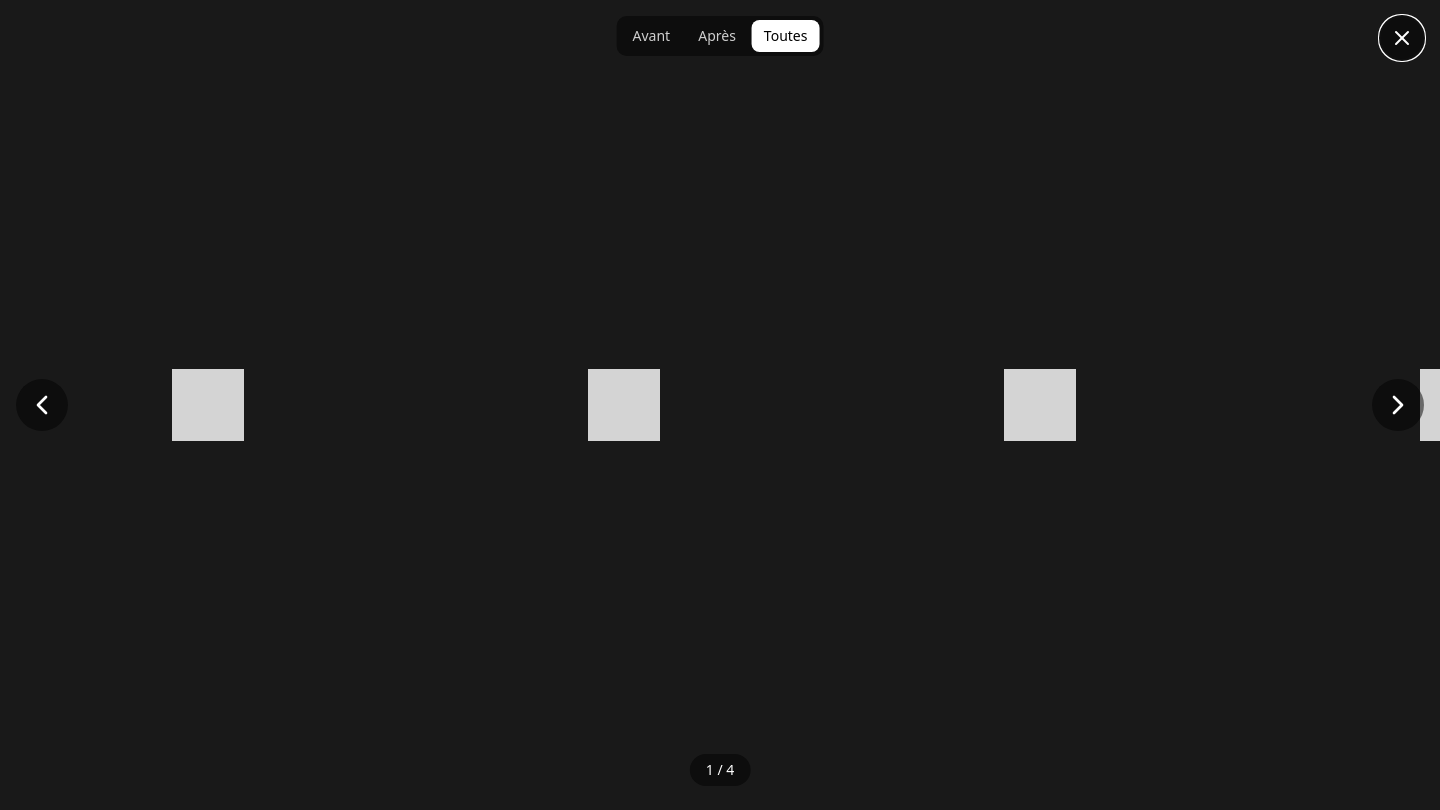
PhotoGalleryDialog › filters to only after photos when Après tab is clicked
Click the button "Après": click(717, 36) [686,20,748,52]
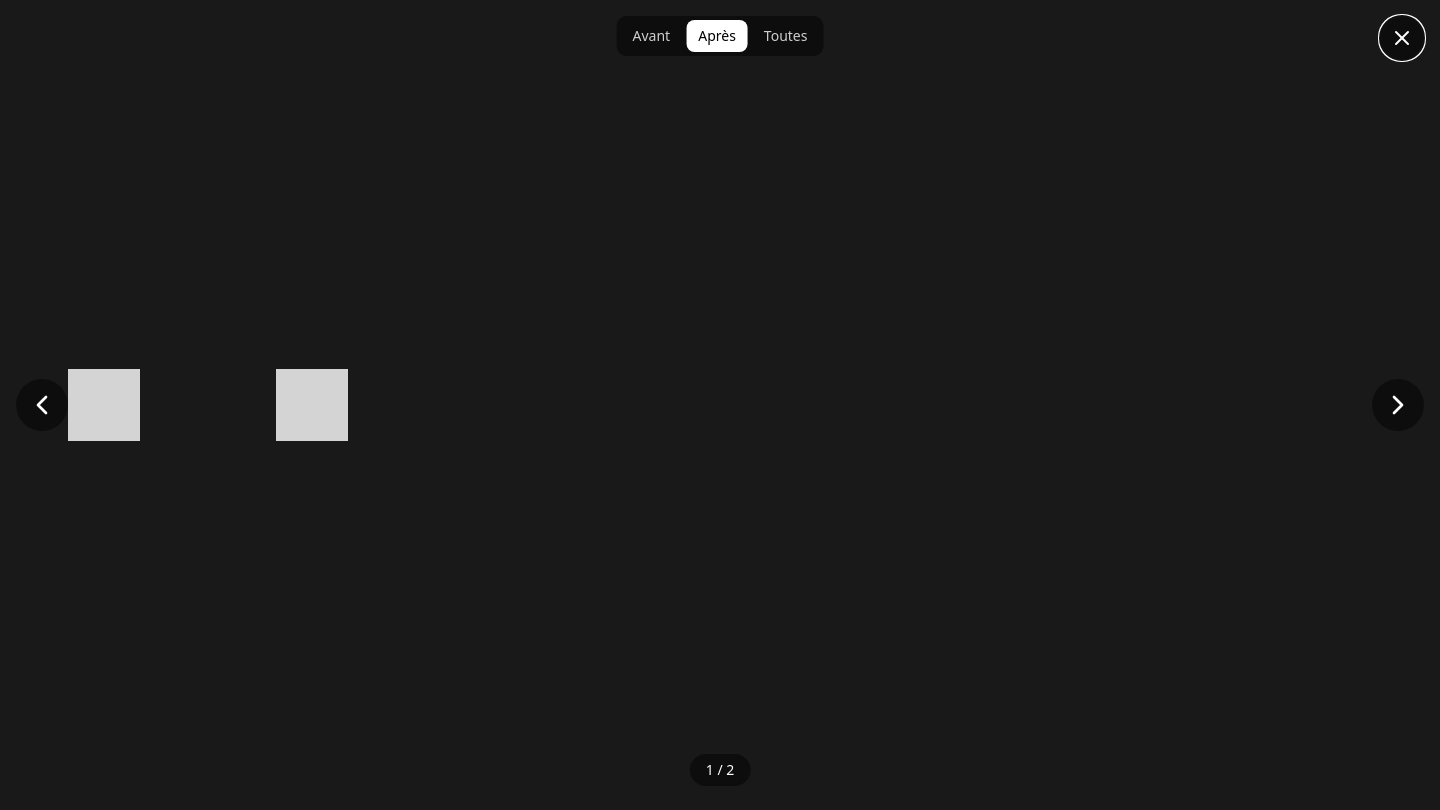
Expected: the text "1 / 2" is shown, [690,754,750,786]
